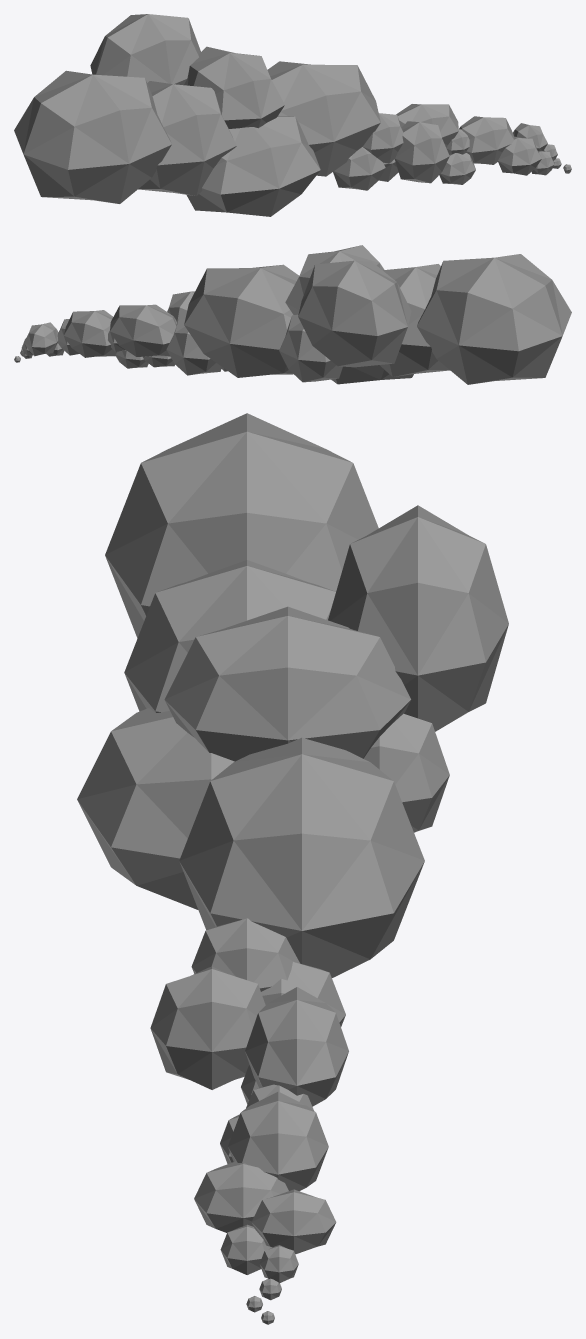
The model's file is Smoke.fbx.
3 views of the same model, one above another, from view 1: azimuth 30°, elevation 25°; view 2: azimuth 150°, elevation 25°; view 3: azimuth 270°, elevation 25° (orthographic). The views are drawn at different scales.
Parts seen in each view (by area): view 1: Smoke; view 2: Smoke; view 3: Smoke.
Boxes of the visible parts, x1,y1,x2,y2 form: Smoke: [14, 14, 571, 216]; Smoke: [14, 245, 571, 384]; Smoke: [77, 413, 508, 1324].
Bounding box in the file's own units: 4168 × 1436 × 1619.
